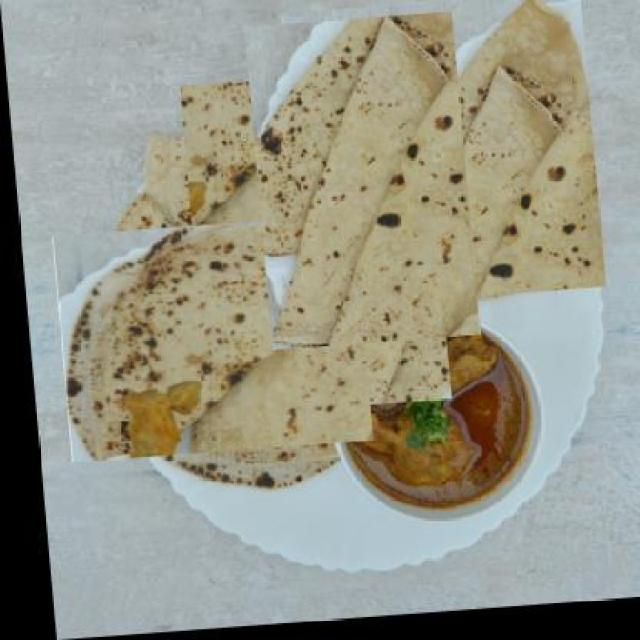chapati: (280, 0, 601, 315), (157, 94, 466, 400), (216, 45, 502, 328), (65, 202, 350, 483)
